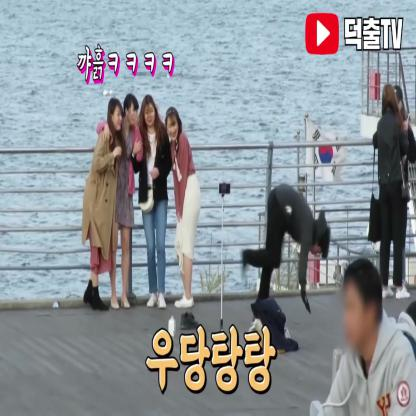Fall_Down: (240, 181, 334, 324)
